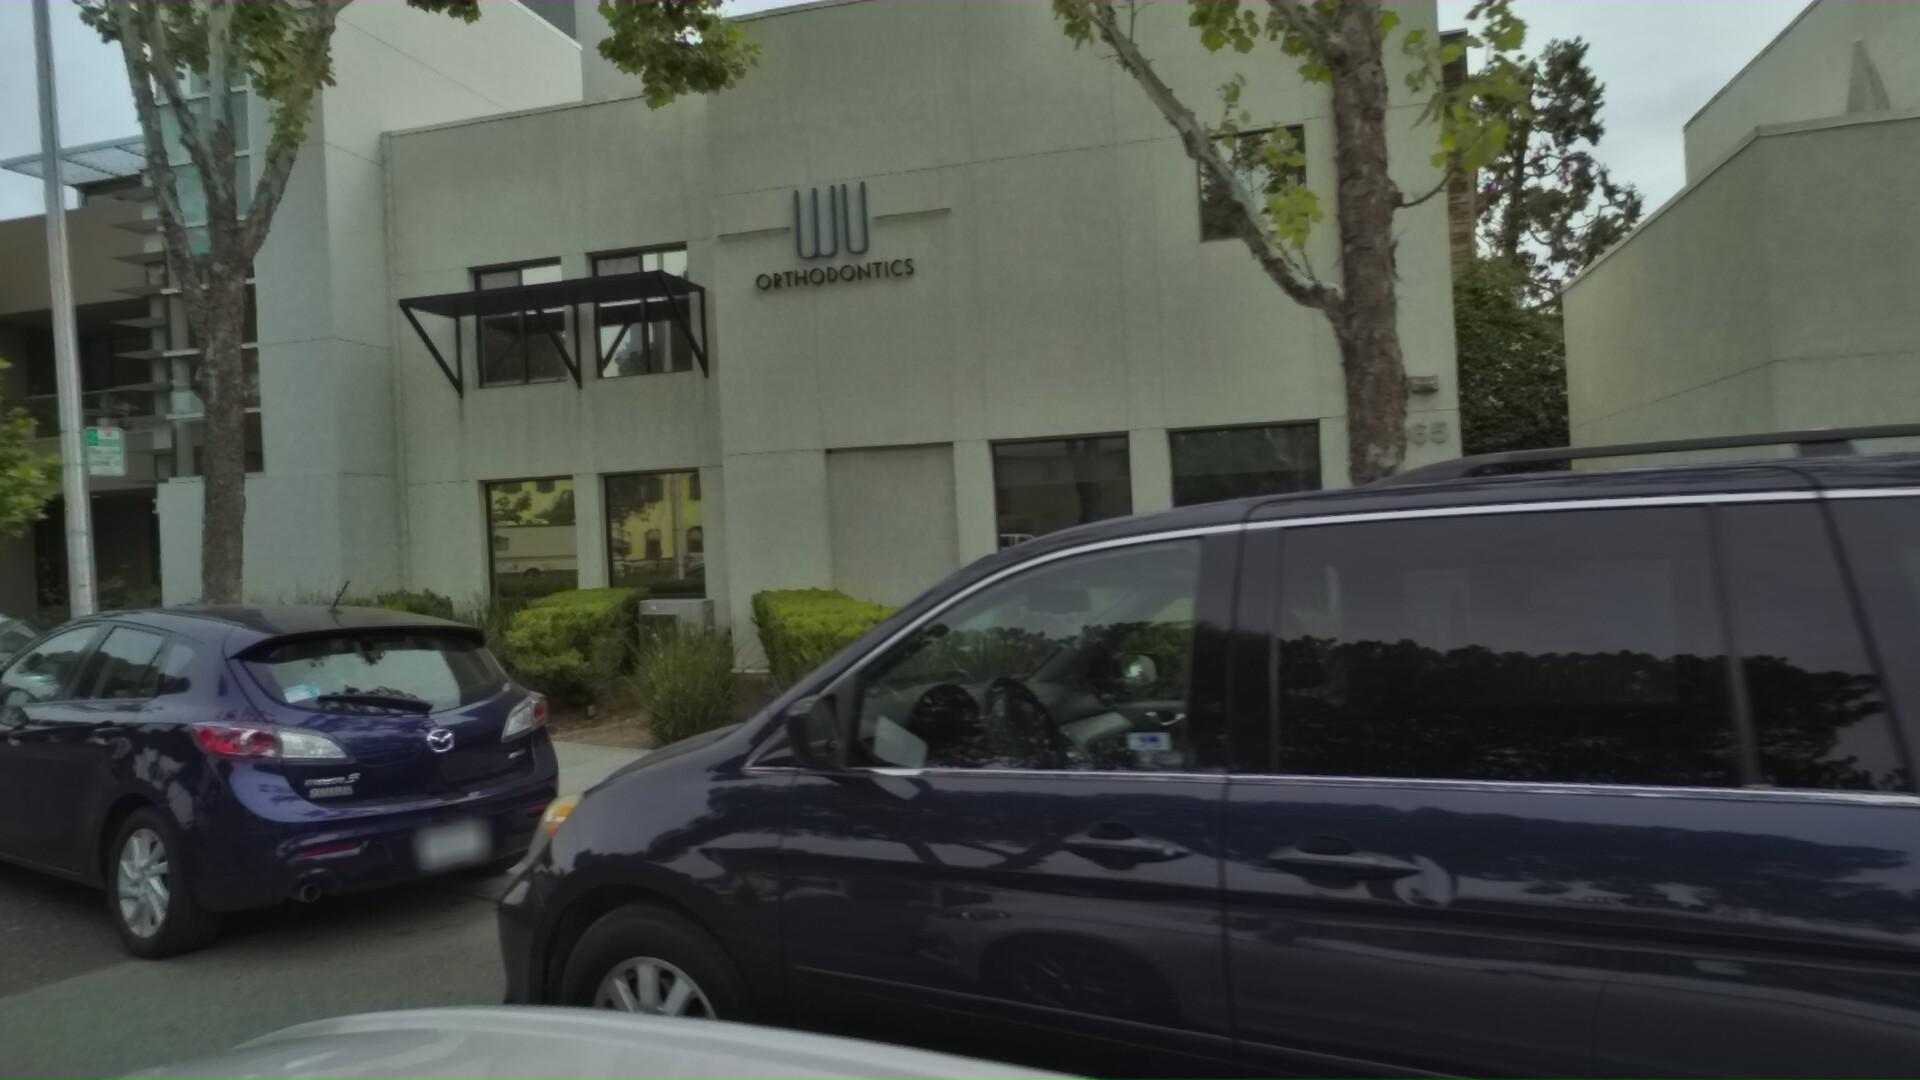car: (452, 0, 1920, 1080), (0, 585, 686, 1063), (0, 589, 167, 880)
